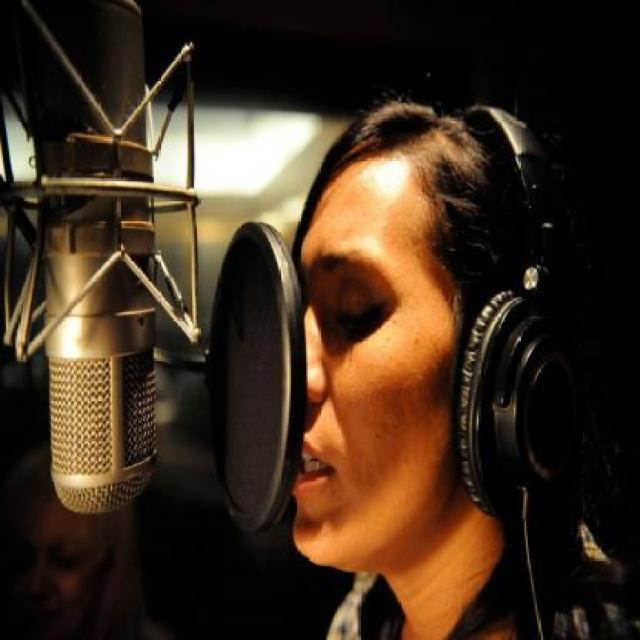earphone: (442, 72, 578, 573)
